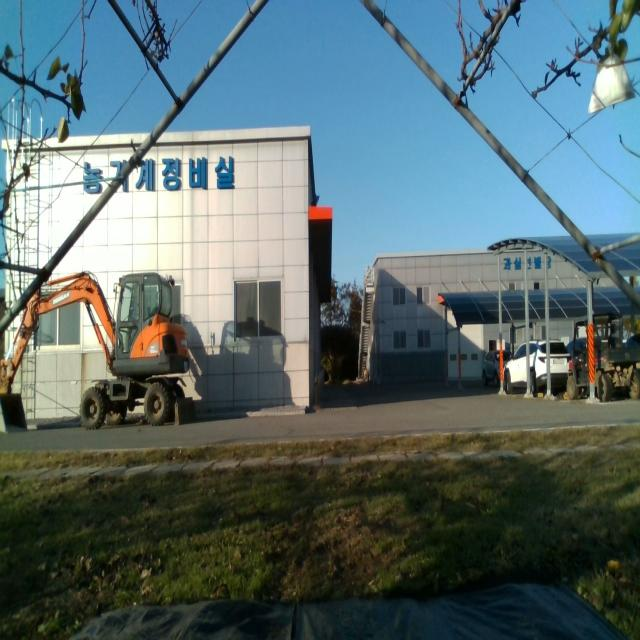pearbags: (587, 52, 636, 116)
